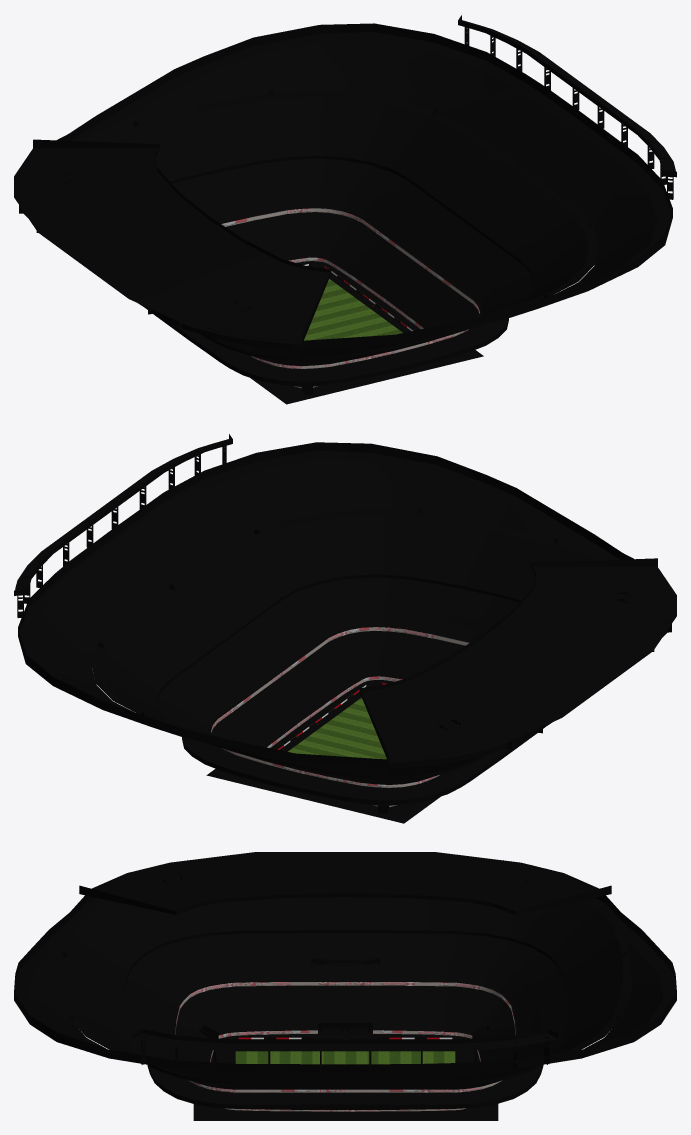
File: st_081_stadium.fbx
The picture shows the model from 3 angles, top to bottom: view 1: azimuth 30°, elevation 25°; view 2: azimuth 150°, elevation 25°; view 3: azimuth 270°, elevation 25°; orthographic projection.
Parts seen in each view (by area): view 1: st_081_Stadium; view 2: st_081_Stadium; view 3: st_081_Stadium.
Boxes of the visible parts, bbox=[...] form: st_081_Stadium: bbox=[14, 15, 676, 404]; st_081_Stadium: bbox=[14, 434, 676, 823]; st_081_Stadium: bbox=[14, 852, 676, 1120].
Size of the model in its own units: 279 by 88.79 by 317.
